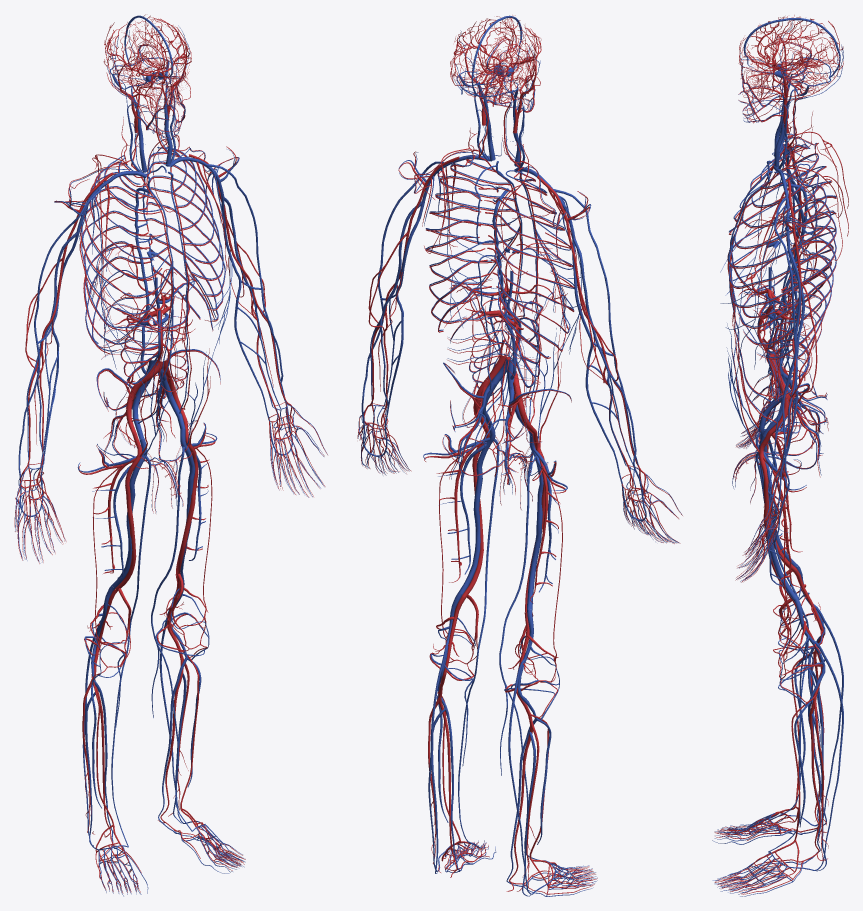
File: vessels.glb
3 renders of one model, left to right at view 1: azimuth 30°, elevation 25°; view 2: azimuth 150°, elevation 25°; view 3: azimuth 270°, elevation 25°, orthographic. The views are drawn at different scales.
Parts seen in each view (by area): view 1: right-superior-intercostal-vein, posterior-intercostal-arteries-right, left-superior-intercostal-vein, posterior-intercostal-arteries-left, great-saphenous-vein-left, great-saphenous-vein-right, femoral-artery-right, cephalic-vein-right, femoral-artery-left, femoral-vein-right, cephalic-vein-left, basilic-vein-left; view 2: left-superior-intercostal-vein, posterior-intercostal-arteries-right, posterior-intercostal-arteries-left, right-superior-intercostal-vein, great-saphenous-vein-left, great-saphenous-vein-right, femoral-vein-left, femoral-vein-right, cephalic-vein-right, basilic-vein-right, basilic-vein-left, femoral-artery-left (+1 smaller); view 3: left-superior-intercostal-vein, posterior-intercostal-arteries-left, right-superior-intercostal-vein, posterior-intercostal-arteries-right, cephalic-vein-left, small-saphenous-vein-left, great-saphenous-vein-right, femoral-artery-left, small-saphenous-vein-right, great-saphenous-vein-left, femoral-vein-left, basilic-vein-left (+19 smaller).
Boxes of the visible parts, x1=… form: right-superior-intercostal-vein: x1=81, y1=155, x2=172, y2=351; posterior-intercostal-arteries-right: x1=79, y1=163, x2=169, y2=354; left-superior-intercostal-vein: x1=144, y1=147, x2=225, y2=329; posterior-intercostal-arteries-left: x1=146, y1=153, x2=225, y2=331; great-saphenous-vein-left: x1=151, y1=446, x2=192, y2=831; great-saphenous-vein-right: x1=111, y1=455, x2=151, y2=846; femoral-artery-right: x1=115, y1=431, x2=142, y2=590; cephalic-vein-right: x1=18, y1=187, x2=101, y2=488; femoral-artery-left: x1=175, y1=419, x2=198, y2=575; femoral-vein-right: x1=112, y1=438, x2=147, y2=588; cephalic-vein-left: x1=202, y1=162, x2=289, y2=422; basilic-vein-left: x1=221, y1=198, x2=269, y2=420; left-superior-intercostal-vein: x1=425, y1=156, x2=519, y2=330; posterior-intercostal-arteries-right: x1=478, y1=188, x2=574, y2=358; posterior-intercostal-arteries-left: x1=425, y1=177, x2=517, y2=332; right-superior-intercostal-vein: x1=492, y1=170, x2=574, y2=357; great-saphenous-vein-left: x1=458, y1=439, x2=499, y2=844; great-saphenous-vein-right: x1=499, y1=452, x2=538, y2=859; femoral-vein-left: x1=459, y1=423, x2=495, y2=594; femoral-vein-right: x1=527, y1=435, x2=543, y2=610; cephalic-vein-right: x1=554, y1=189, x2=643, y2=496; basilic-vein-right: x1=572, y1=238, x2=622, y2=483; basilic-vein-left: x1=384, y1=202, x2=424, y2=426; femoral-artery-left: x1=462, y1=419, x2=489, y2=598; left-superior-intercostal-vein: x1=729, y1=163, x2=836, y2=358; posterior-intercostal-arteries-left: x1=729, y1=175, x2=836, y2=359; right-superior-intercostal-vein: x1=729, y1=144, x2=836, y2=304; posterior-intercostal-arteries-right: x1=729, y1=153, x2=836, y2=308; cephalic-vein-left: x1=774, y1=197, x2=796, y2=518; small-saphenous-vein-left: x1=803, y1=640, x2=843, y2=870; great-saphenous-vein-right: x1=755, y1=432, x2=820, y2=820; femoral-artery-left: x1=759, y1=431, x2=793, y2=601; small-saphenous-vein-right: x1=803, y1=604, x2=843, y2=826; great-saphenous-vein-left: x1=755, y1=452, x2=820, y2=851; femoral-vein-left: x1=758, y1=435, x2=797, y2=600; basilic-vein-left: x1=778, y1=249, x2=804, y2=501.
Bounding box in the file's own units: 0.6639 × 1.7 × 0.2489.
